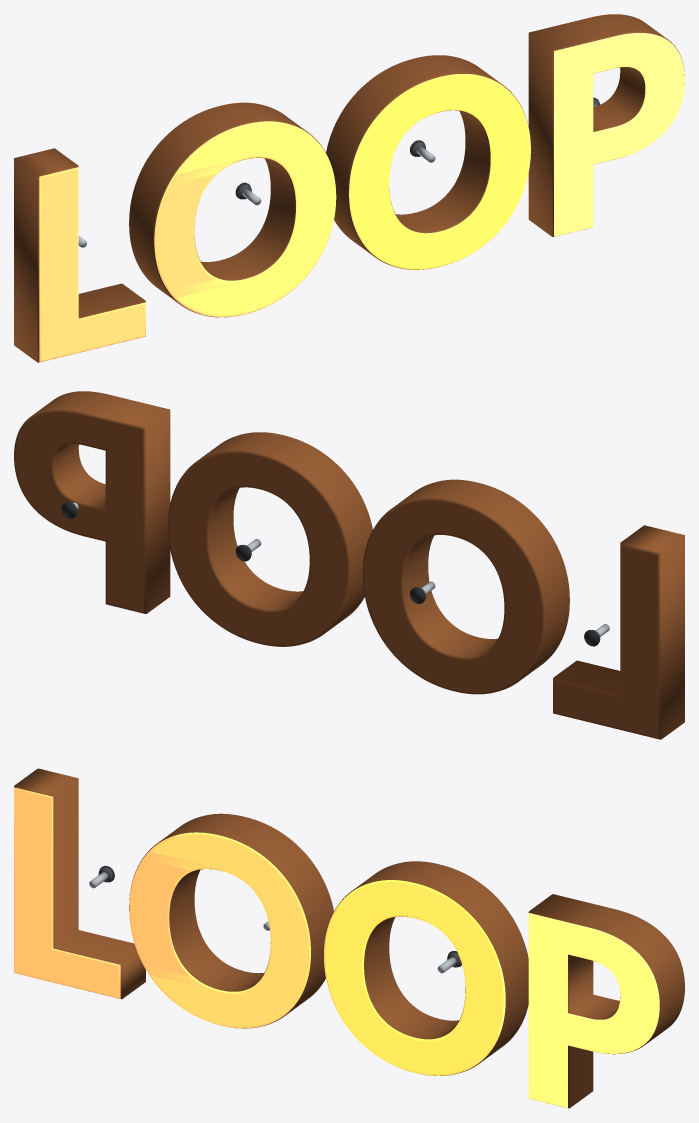
The model's file is LOOP_Wordmark.glb.
The picture shows the model from 3 angles, top to bottom: view 1: azimuth 30°, elevation 25°; view 2: azimuth 150°, elevation 25°; view 3: azimuth 330°, elevation 25°; orthographic projection.
Parts seen in each view (by area): view 1: LOOP | four dimensional channel letters; view 2: LOOP | four dimensional channel letters; view 3: LOOP | four dimensional channel letters.
Boxes of the visible parts, box(x1,y1,x2,y2) form: LOOP | four dimensional channel letters: box(14, 14, 684, 362); LOOP | four dimensional channel letters: box(14, 391, 684, 739); LOOP | four dimensional channel letters: box(14, 768, 684, 1108).
Size of the model in its own units: 3.3 by 0.9319 by 0.2843.
